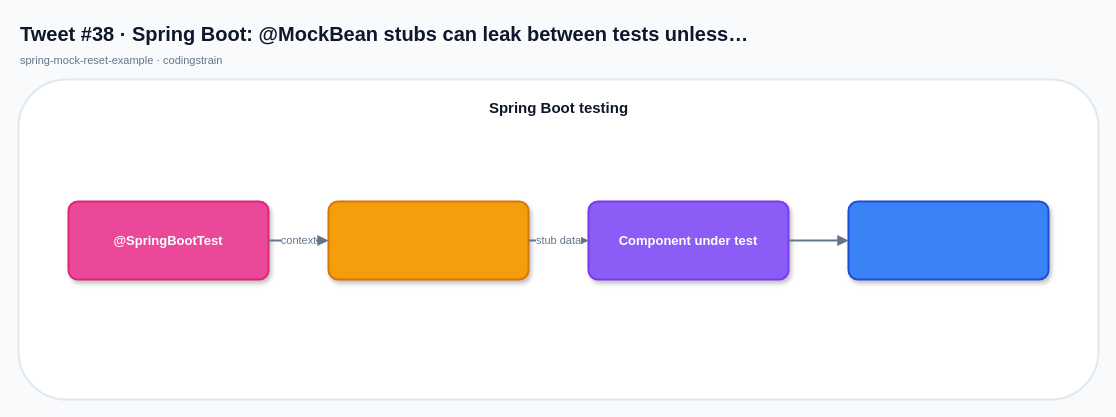
The diagram is 1116 pixels wide and 417 high, and some of its shapes have lost their labels. Here are the shapes that lost their labels. From the top down, the centre of each, then its label:
the point at 429,241: @MockBean / @Sql
the point at 949,241: Assertions
